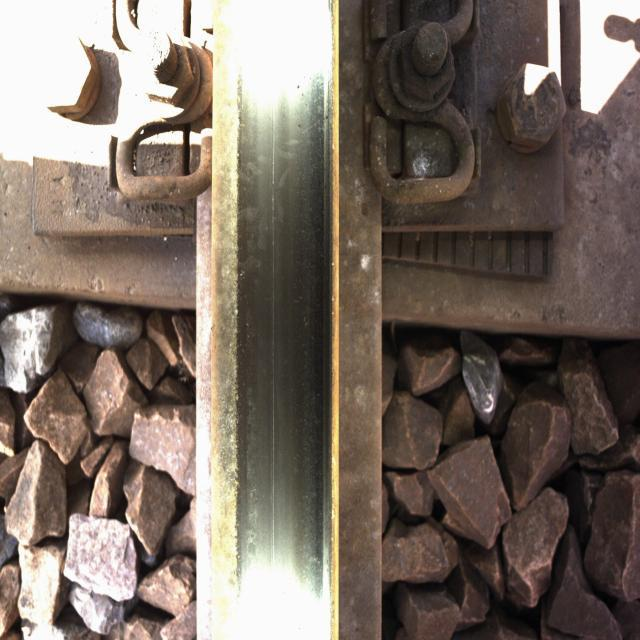normal: (237, 70, 325, 565)
